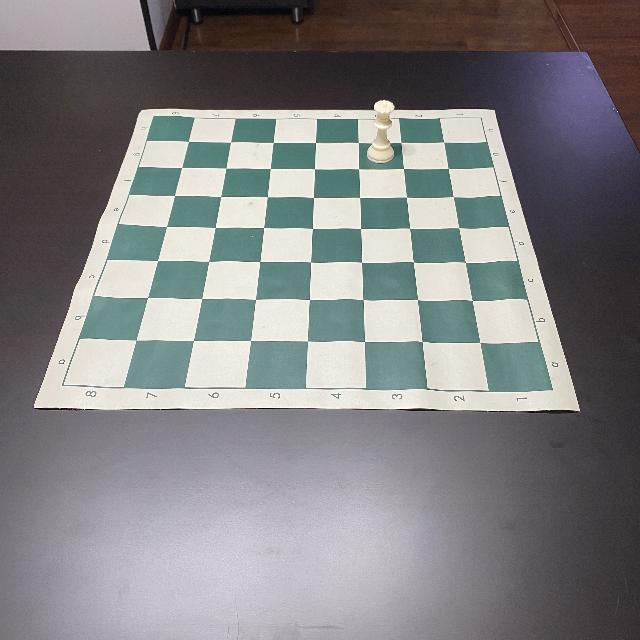board: (34, 102, 582, 414)
white-queen: (366, 99, 396, 163)
